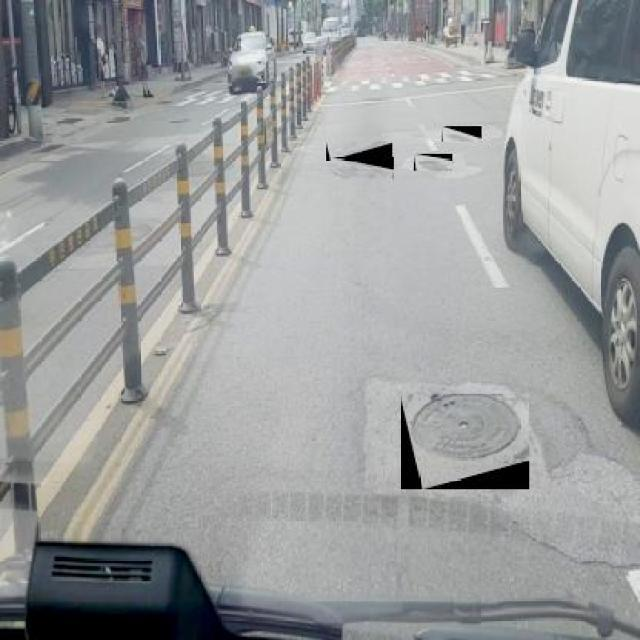Manhole: (400, 393, 529, 490), (331, 156, 394, 178), (326, 142, 392, 160), (414, 154, 452, 171), (442, 126, 482, 142)
